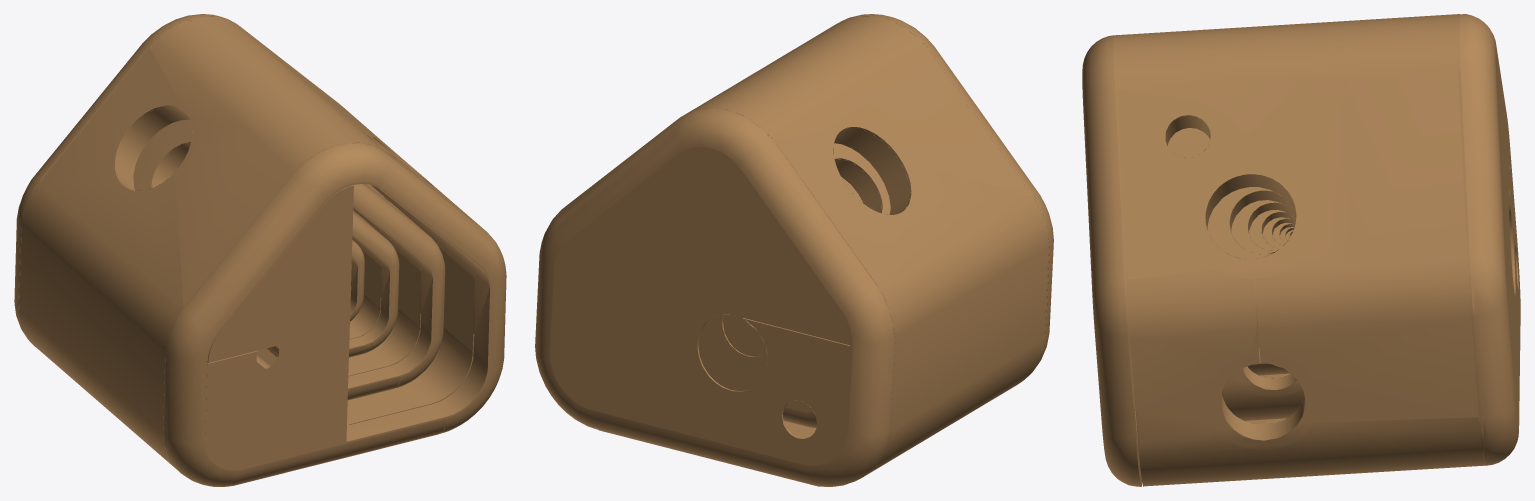
The model's file is Homie_Jath.glb.
3 views of the same model, side by side, from view 1: azimuth 30°, elevation 25°; view 2: azimuth 150°, elevation 25°; view 3: azimuth 270°, elevation 25° (orthographic). The views are drawn at different scales.
Parts seen in each view (by area): view 1: connector; view 2: connector; view 3: connector.
Boxes of the visible parts, x1,y1,x2,y2 form: connector: [14, 14, 506, 486]; connector: [535, 14, 1053, 486]; connector: [1082, 14, 1520, 486].
Bounding box in the file's own units: 0.5174 × 0.4995 × 0.4958.
